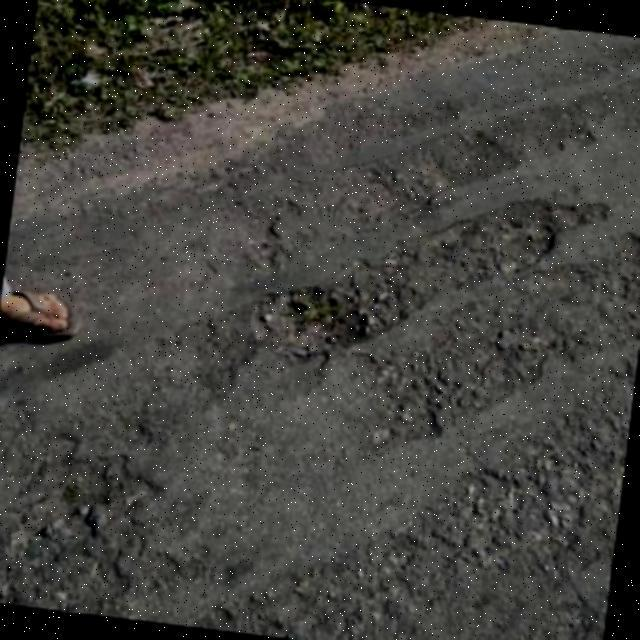Pothole: (254, 286, 368, 347)
